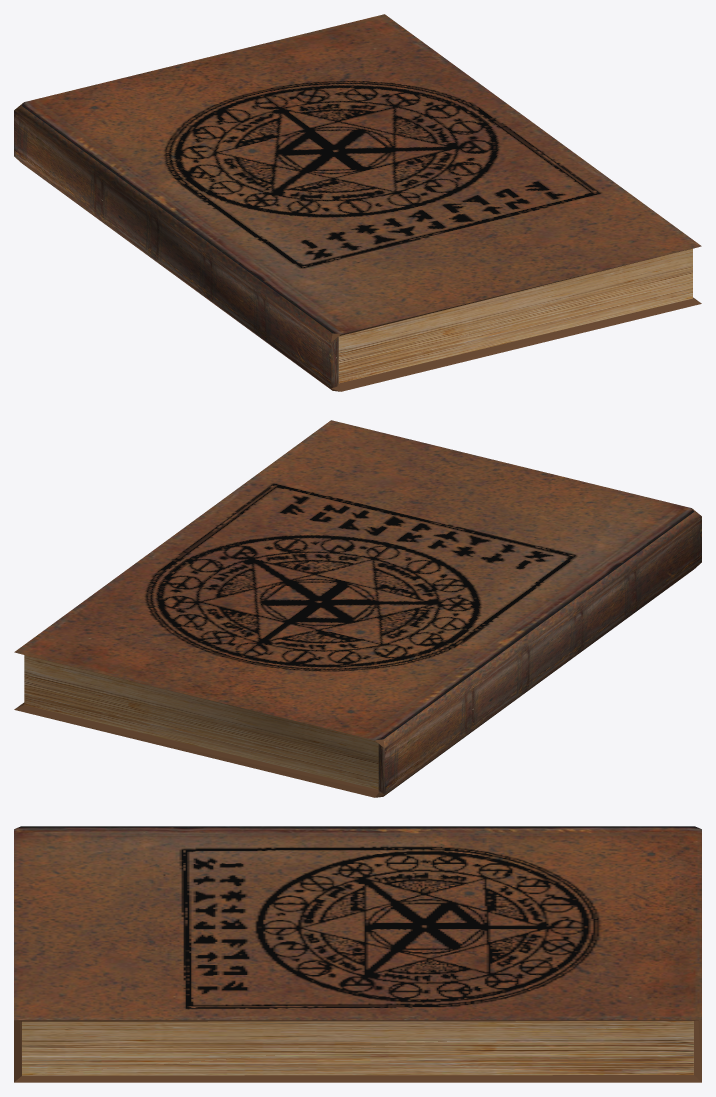
Rendered from book1.fbx.
3 renders of one model, top to bottom at view 1: azimuth 30°, elevation 25°; view 2: azimuth 150°, elevation 25°; view 3: azimuth 270°, elevation 25°, orthographic. The views are drawn at different scales.
Visible parts, largest first — view 1: Box001; view 2: Box001; view 3: Box001.
Part boxes in pixels (x1,y1,x2,y2): Box001: (14, 14, 701, 391); Box001: (14, 420, 701, 797); Box001: (14, 826, 701, 1082).
Bounding box in the file's own units: 0.1986 × 0.0294 × 0.2943.
Materials: 1 (1 with a texture image).
